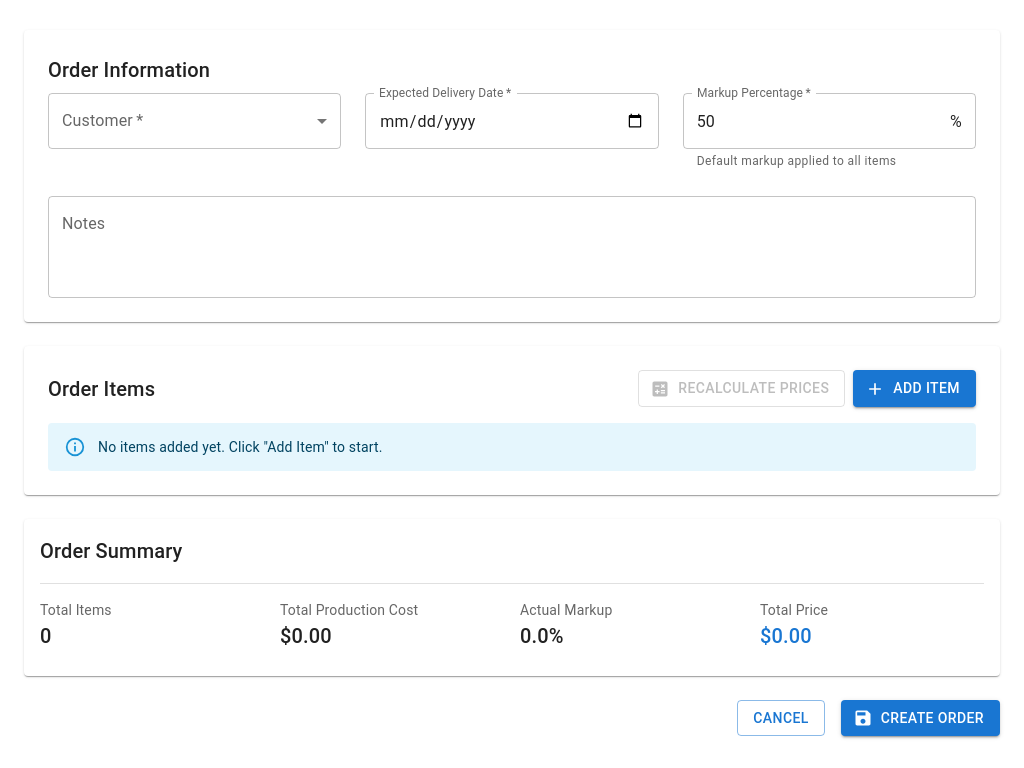
OrderForm Page › Form Validation › shows error when customer not selected
The width and height of the screenshot is (1024, 768).
(page scrolled)
Click the button "Create Order" at (920, 718), box [841,700,1000,736]
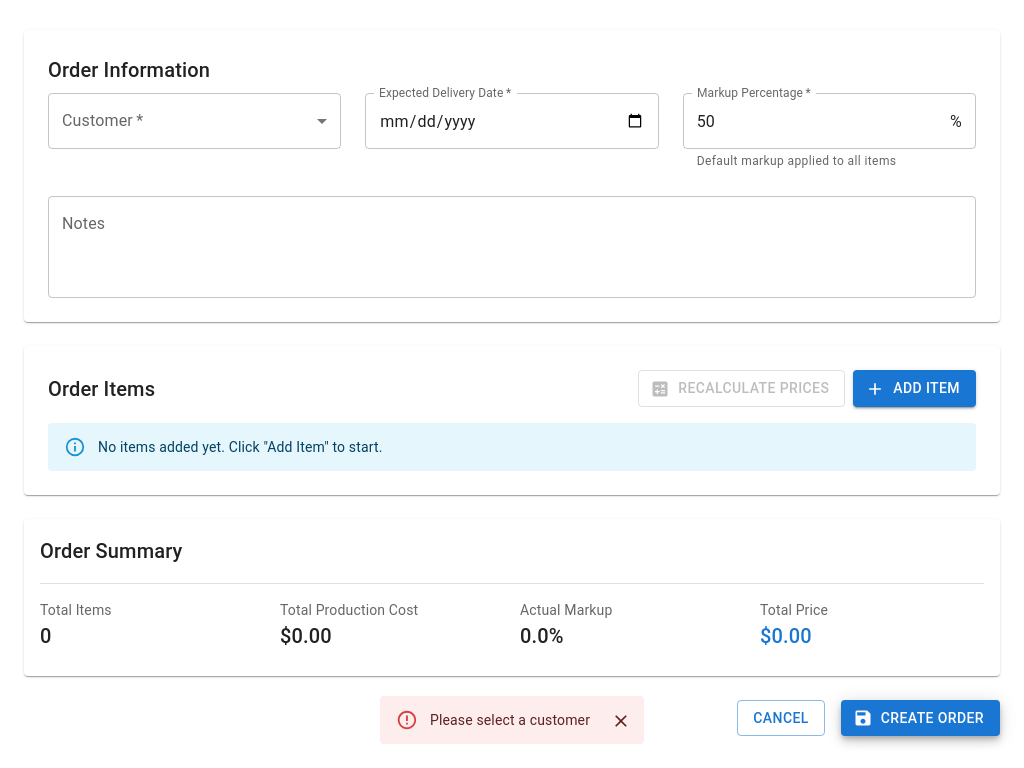
Now the text "Please select a customer" is shown, box [430,712,590,728]
